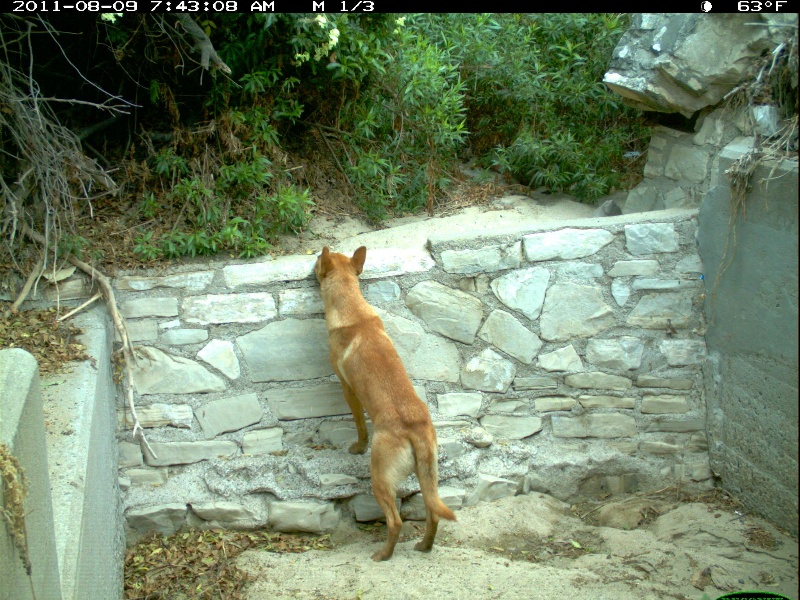dog: (308, 241, 461, 566)
